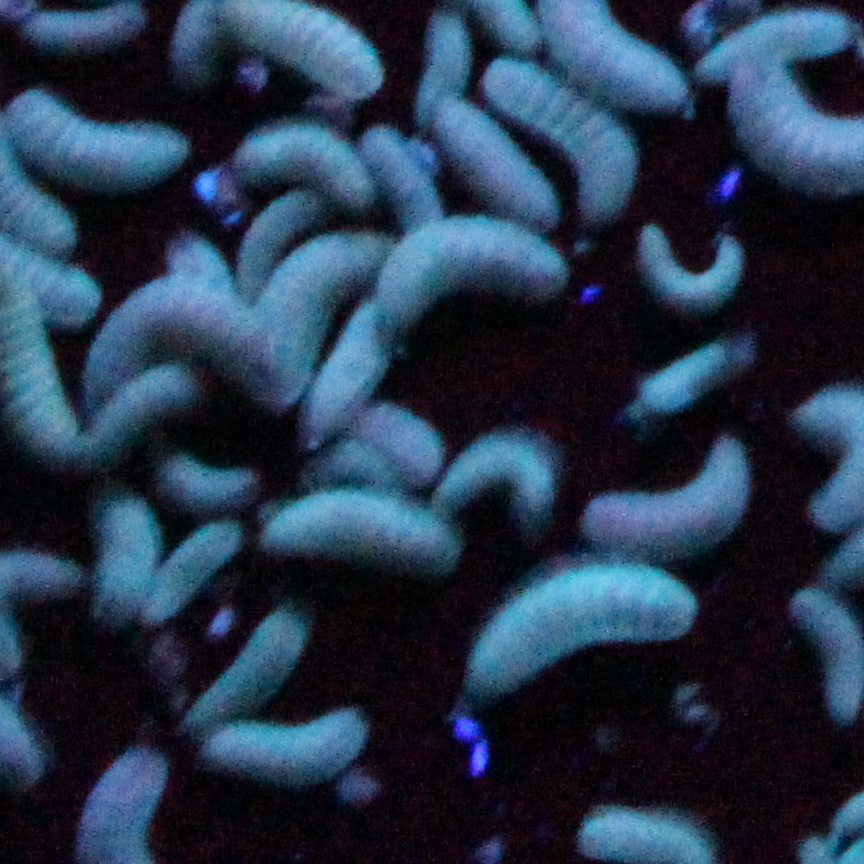larve: (457, 562, 704, 715), (489, 56, 629, 221), (570, 444, 761, 553), (372, 224, 570, 322), (257, 224, 376, 379), (256, 494, 460, 584), (83, 288, 265, 387), (22, 91, 183, 190), (436, 104, 565, 220), (306, 305, 407, 430), (438, 432, 562, 532), (232, 123, 378, 204), (640, 228, 750, 311), (149, 438, 271, 512), (207, 711, 371, 766), (161, 516, 243, 622), (13, 8, 151, 60), (106, 475, 152, 615), (415, 14, 466, 116)
